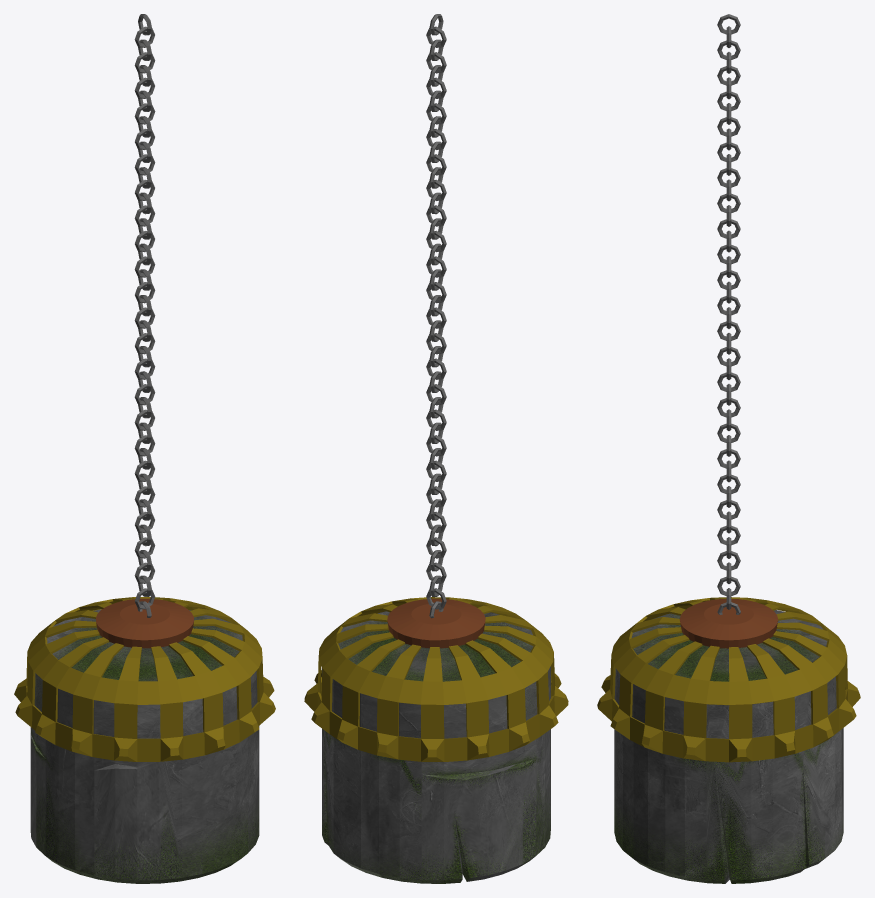
The model's file is PrensaV2.fbx.
3 views of the same model, side by side, from view 1: azimuth 30°, elevation 25°; view 2: azimuth 150°, elevation 25°; view 3: azimuth 270°, elevation 25° (orthographic).
Parts seen in each view (by area): view 1: Prensa (opt); view 2: Prensa (opt); view 3: Prensa (opt).
Boxes of the visible parts, bbox=[...] form: Prensa (opt): bbox=[14, 14, 275, 883]; Prensa (opt): bbox=[304, 14, 568, 883]; Prensa (opt): bbox=[597, 14, 860, 883].
Size of the model in its own units: 300 by 1035 by 300.
4 materials, 1 textured.
